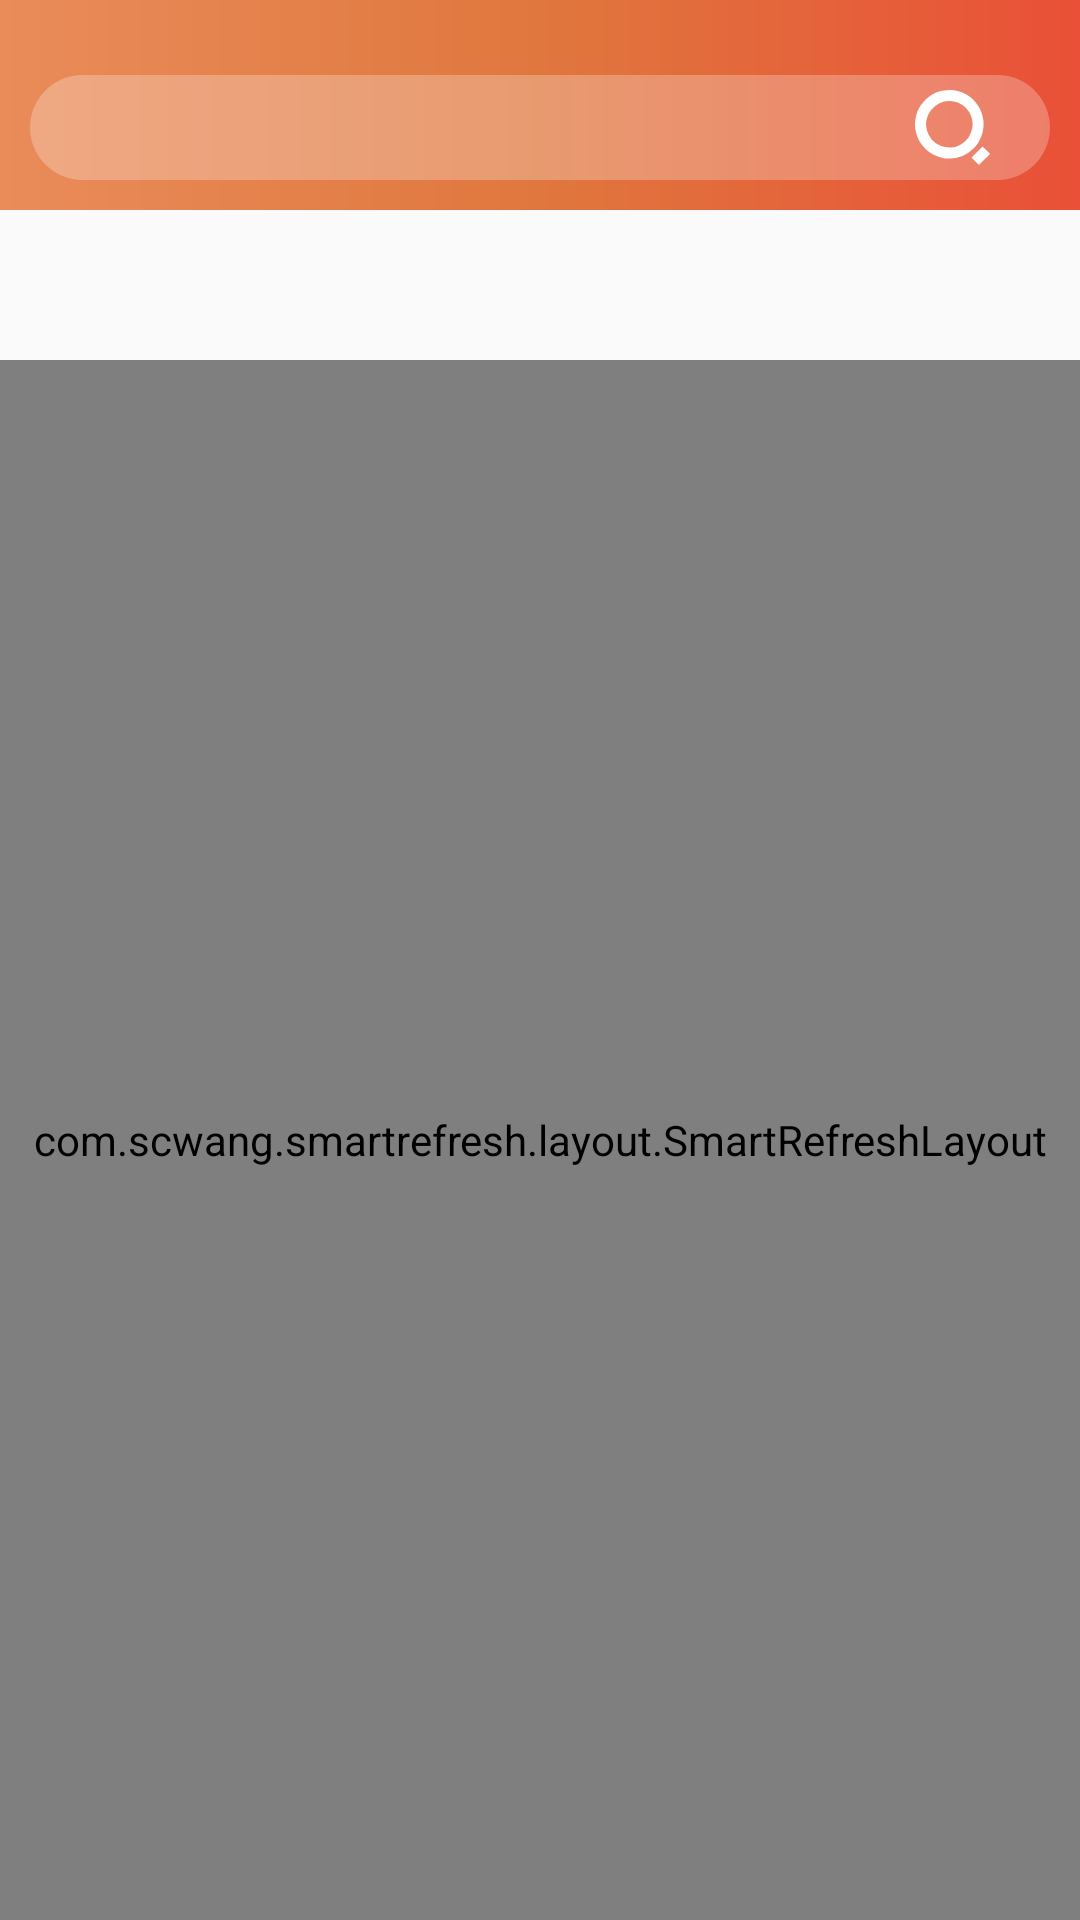

Icon click points for this 1080px×1920px phone screenshot, format (x,y):
search: (952,127)
